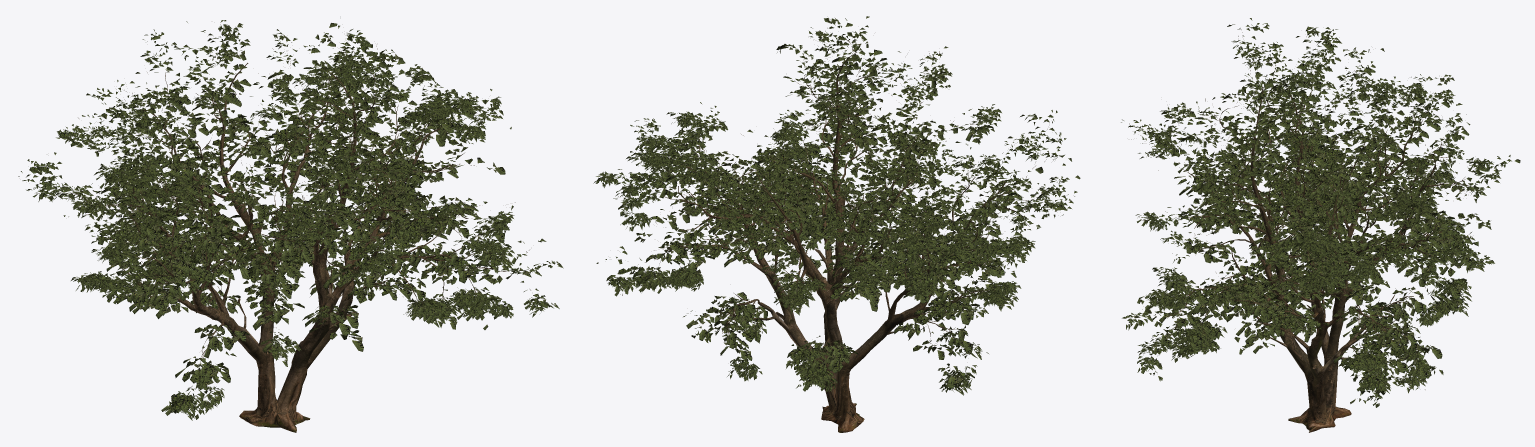
File: jacaranda_tree-near.gltf
The picture shows the model from 3 angles, left to right: view 1: azimuth 30°, elevation 25°; view 2: azimuth 150°, elevation 25°; view 3: azimuth 270°, elevation 25°; orthographic projection. The views are drawn at different scales.
Visible parts, largest first — view 1: jacaranda_tree_LOD0; view 2: jacaranda_tree_LOD0; view 3: jacaranda_tree_LOD0.
Part boxes in pixels (<box>): jacaranda_tree_LOD0: <box>18,20,563,432</box>; jacaranda_tree_LOD0: <box>593,16,1080,432</box>; jacaranda_tree_LOD0: <box>1121,18,1520,432</box>.
Bounding box in the file's own units: 24.42 × 19.44 × 19.15.
Materials: 3 (3 with a texture image).
